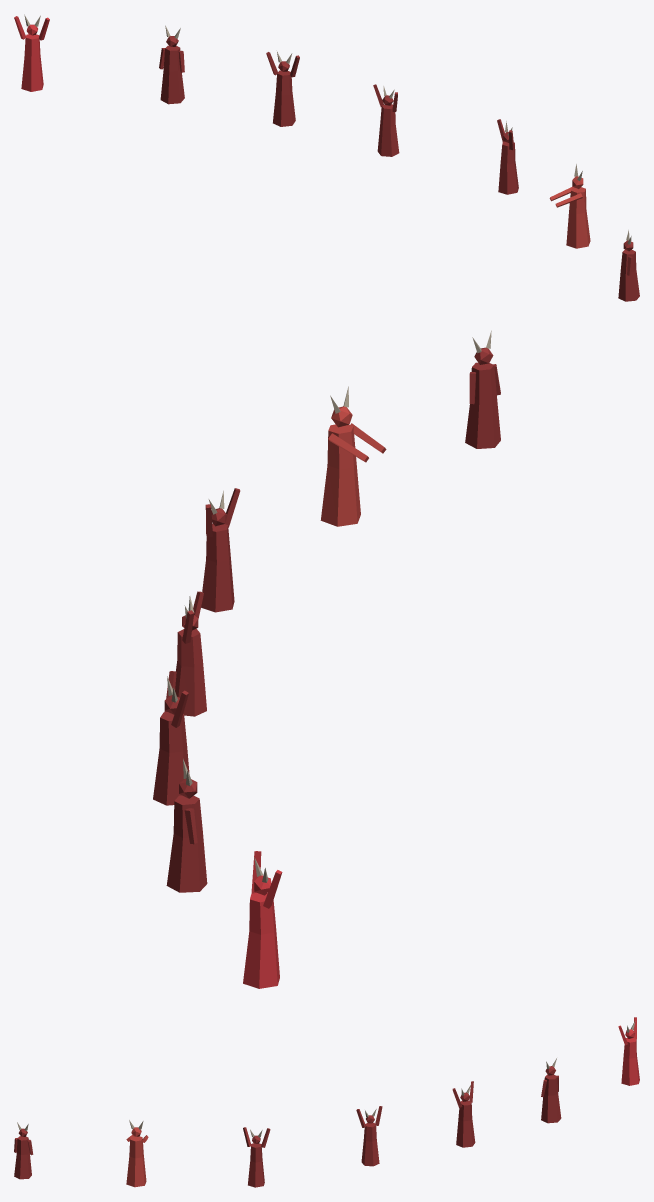
Rendered from Stands_3_1_1_Ice.obj.
3 views of the same model, one above another, from view 1: azimuth 30°, elevation 25°; view 2: azimuth 150°, elevation 25°; view 3: azimuth 270°, elevation 25° (orthographic). The views are drawn at different scales.
Visible parts, largest first — view 1: Stands_3_1_1_Ice; view 2: Stands_3_1_1_Ice; view 3: Stands_3_1_1_Ice.
Boxes of the visible parts, <box> form: Stands_3_1_1_Ice: <box>14,14,639,301</box>; Stands_3_1_1_Ice: <box>153,330,500,988</box>; Stands_3_1_1_Ice: <box>14,1017,639,1187</box>.
Bounding box in the file's own units: 13.43 × 3.56 × 31.7.
Materials: 1 (1 with a texture image).
